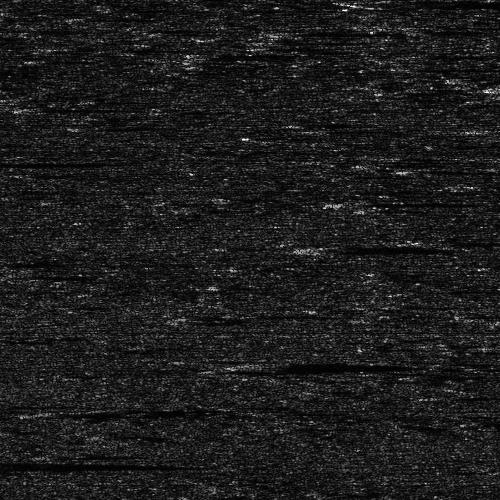rock: (213, 26, 348, 37), (277, 197, 392, 206), (44, 404, 117, 415), (277, 242, 350, 251), (163, 50, 236, 59), (265, 32, 286, 51), (222, 361, 275, 368), (472, 83, 500, 92), (450, 127, 500, 132), (331, 0, 404, 3), (0, 105, 41, 110), (60, 123, 101, 128), (384, 67, 415, 70), (482, 58, 500, 63)
shadow: (81, 404, 250, 415), (335, 197, 457, 206), (314, 242, 434, 251), (249, 361, 397, 368), (281, 26, 372, 37), (276, 32, 321, 51), (0, 158, 92, 167), (200, 50, 288, 59), (10, 105, 127, 110), (81, 123, 161, 128), (368, 0, 500, 3), (400, 67, 448, 70)
